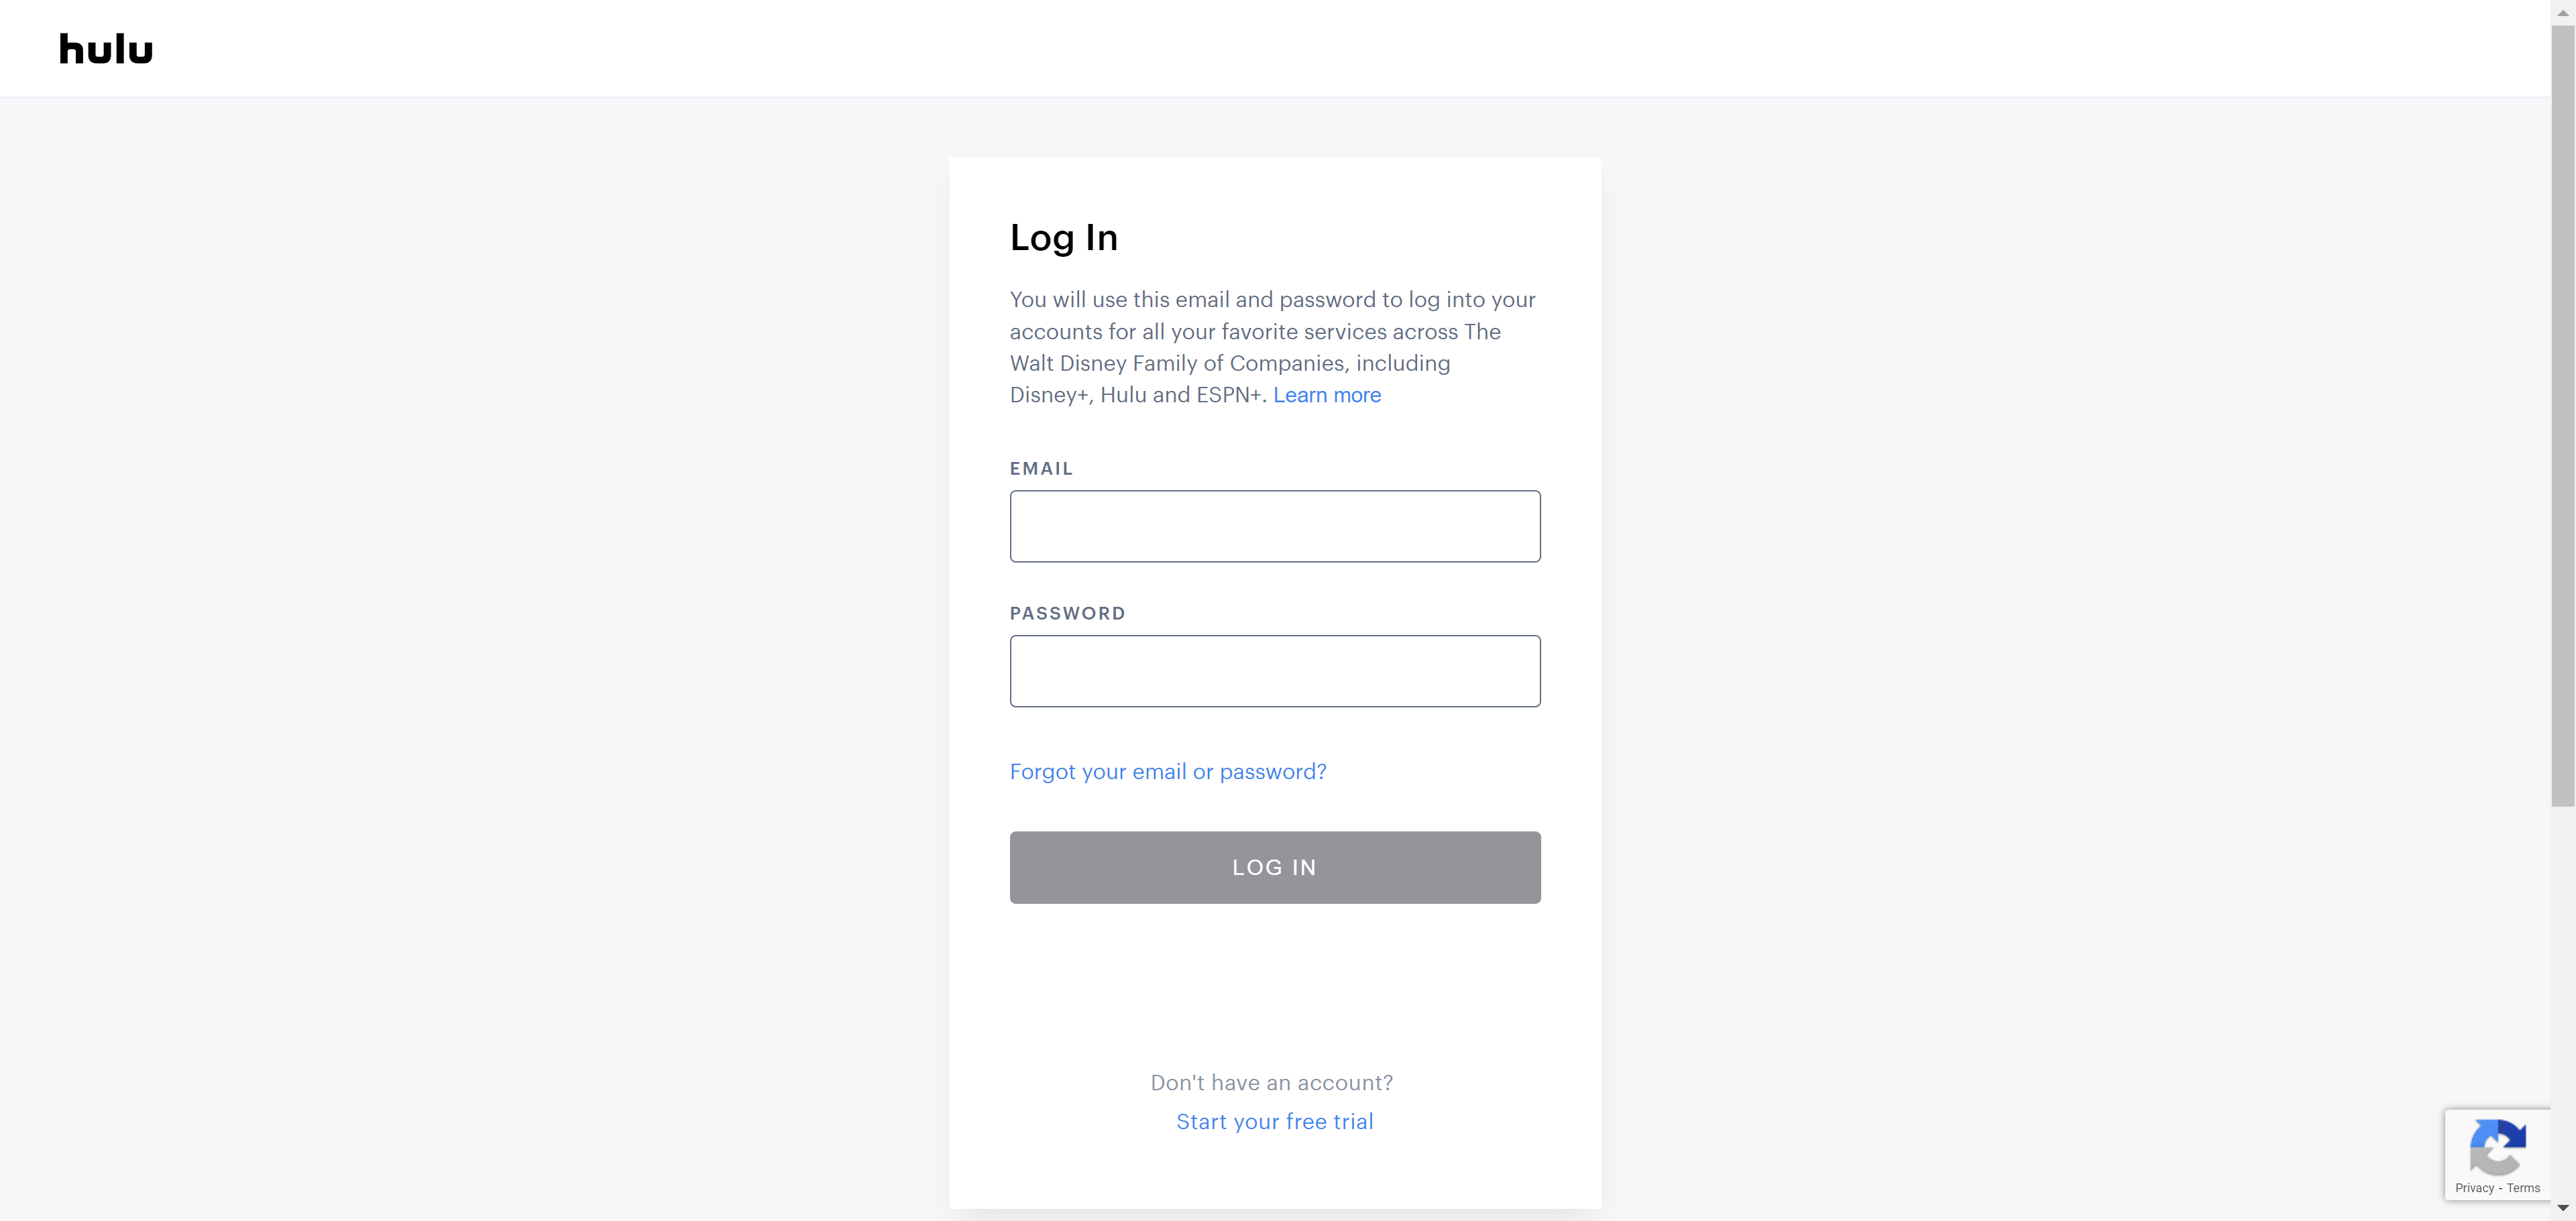login_button: (1009, 832, 1541, 904)
login_form: (994, 452, 1556, 919)
